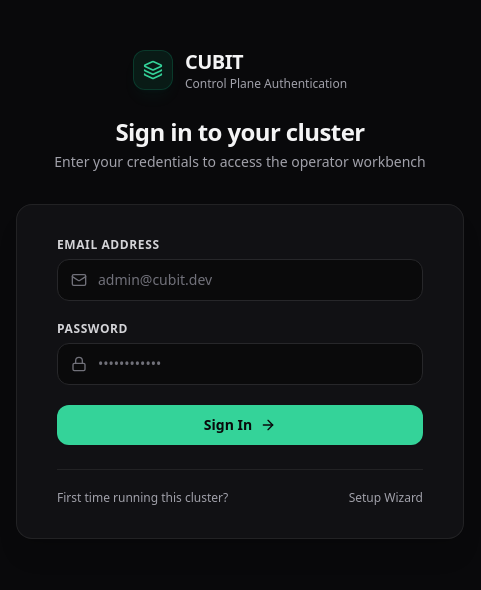
Test: Given the LoginPage component › When backend returns 401 invalid credentials › Then displays the server error message to the user
Type "alice@cubit.dev" into the field labelled "Email Address" at (240, 280), box [57,258,423,300]
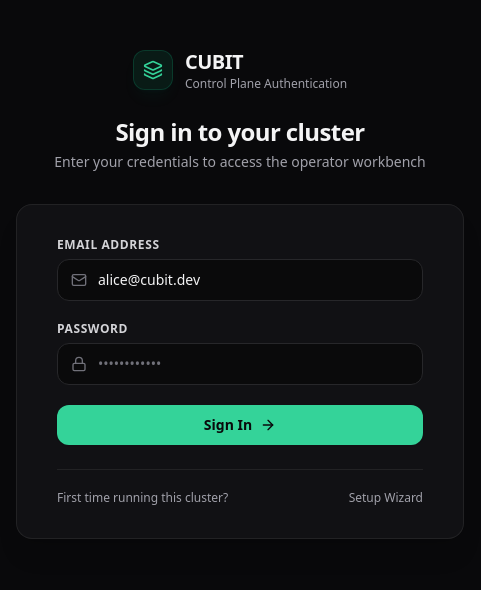
Type "wrongpass" into the password field labelled "Password" at (240, 364), box [57,342,423,384]
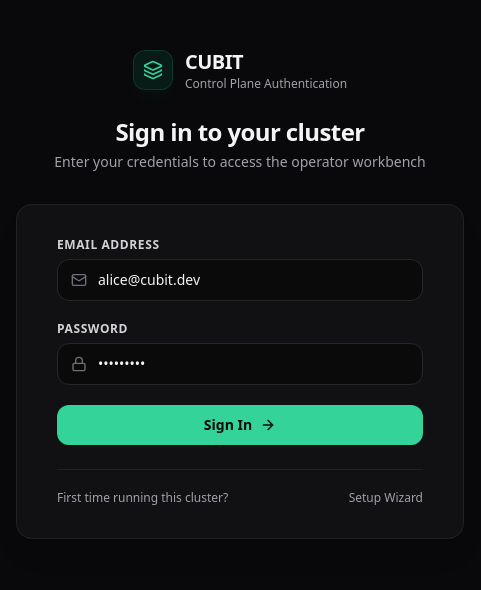
Click the button "Sign In" at (240, 424), box [57,404,423,444]
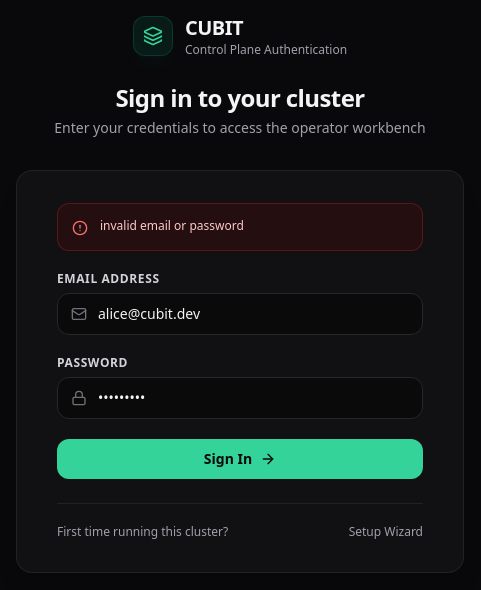
Expected: the text "invalid email or password" is shown, [100,216,244,234]
